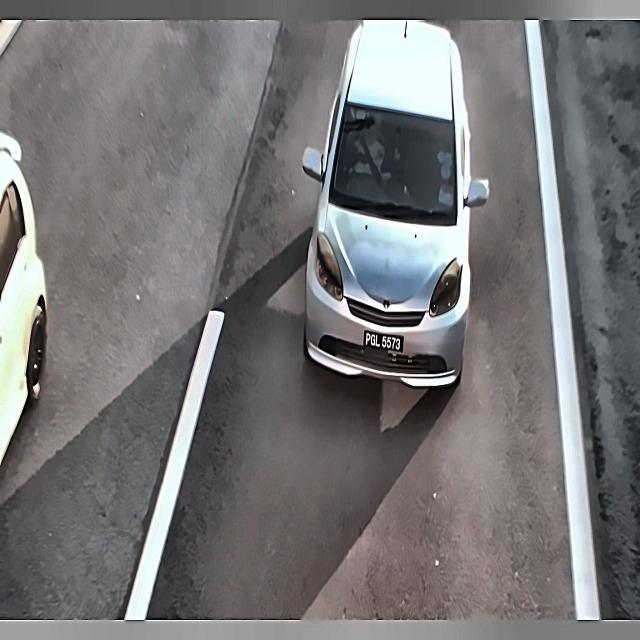car: (359, 327, 411, 359)
